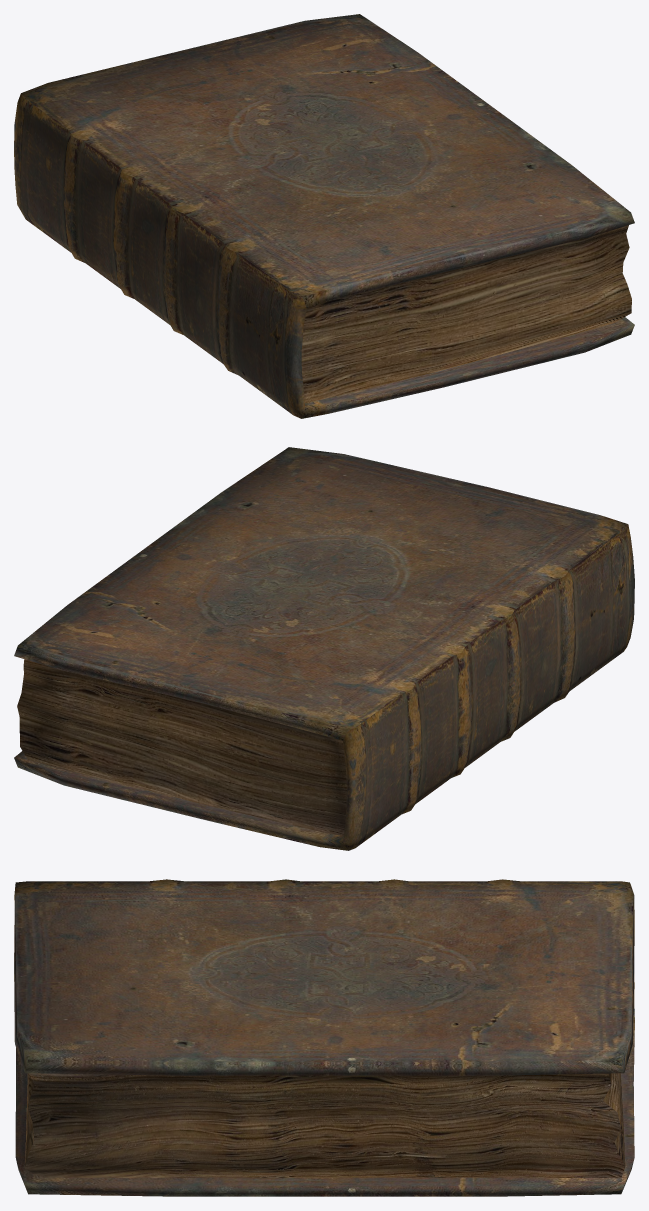
The model's file is book.glb.
The picture shows the model from 3 angles, top to bottom: view 1: azimuth 30°, elevation 25°; view 2: azimuth 150°, elevation 25°; view 3: azimuth 270°, elevation 25°; orthographic projection. The views are drawn at different scales.
Visible parts, largest first — view 1: old_book1; view 2: old_book1; view 3: old_book1.
Boxes of the visible parts, box(x1,y1,x2,y2) form: old_book1: box(14, 14, 634, 418); old_book1: box(14, 447, 634, 850); old_book1: box(14, 879, 634, 1196).
Bounding box in the file's own units: 0.2885 × 0.1001 × 0.4011.
1 material, 1 textured.
